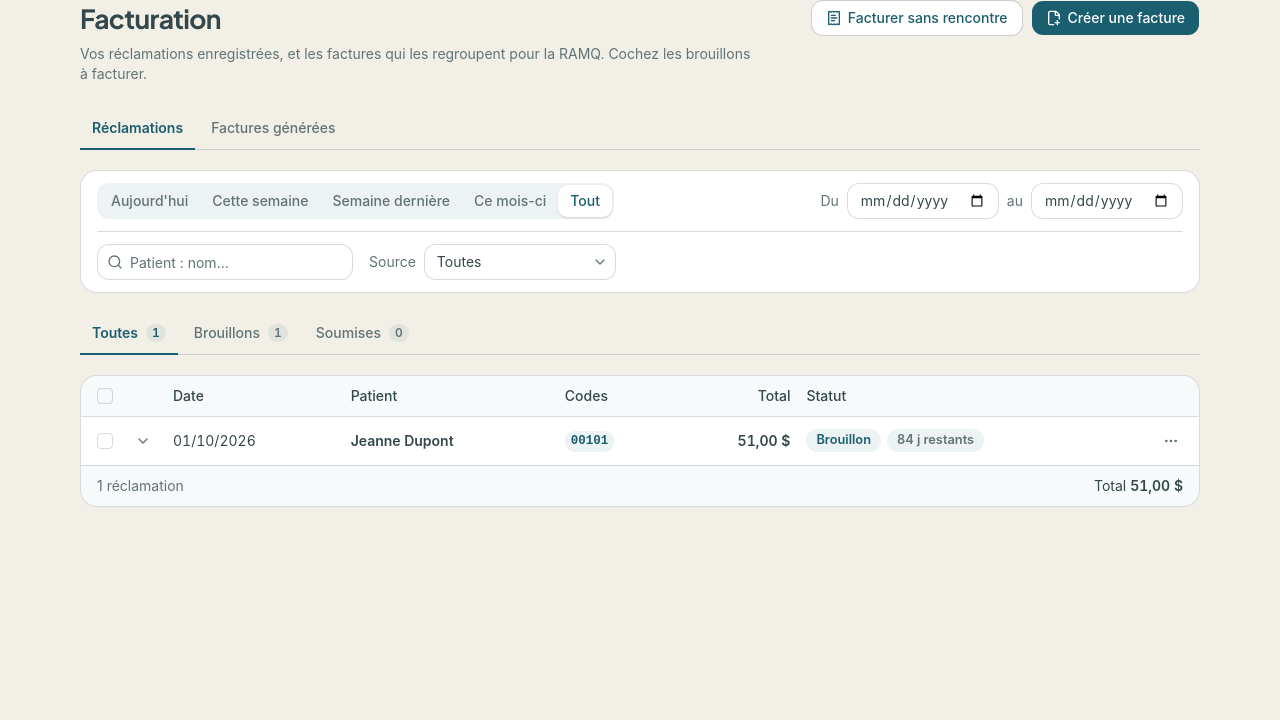
Scenario: claims tab › deleting › shows the server's refusal and keeps the claim
What coordinates should you click on to do the following:
click the button named "Actions — réclamation de Jeanne Dupont"
I would click on:
 (1171, 440)
Its box is [1155,424,1187,456].
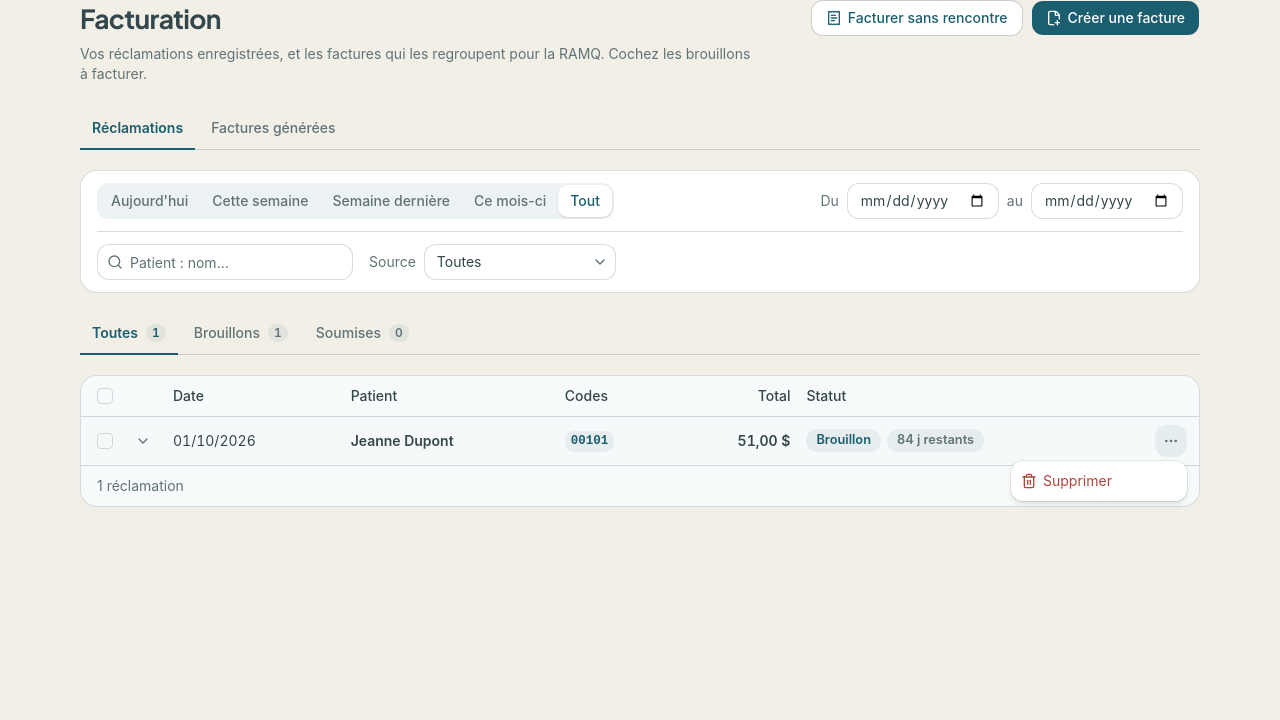
What coordinates should you click on to do the following:
click the menu item "Supprimer"
I would click on:
 (1066, 480)
Its box is [1021,472,1112,489].
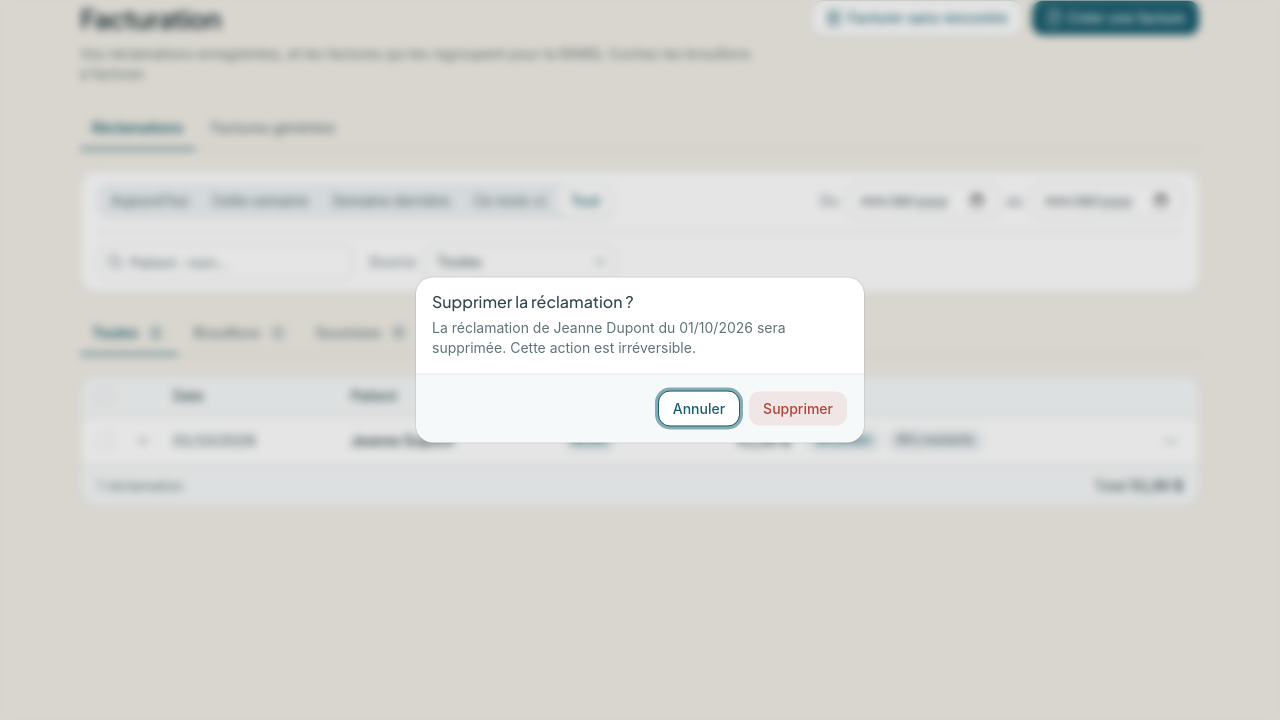
What coordinates should you click on to do the following:
click the button "Supprimer"
I would click on:
 (798, 408)
Its box is [748,390,848,426].
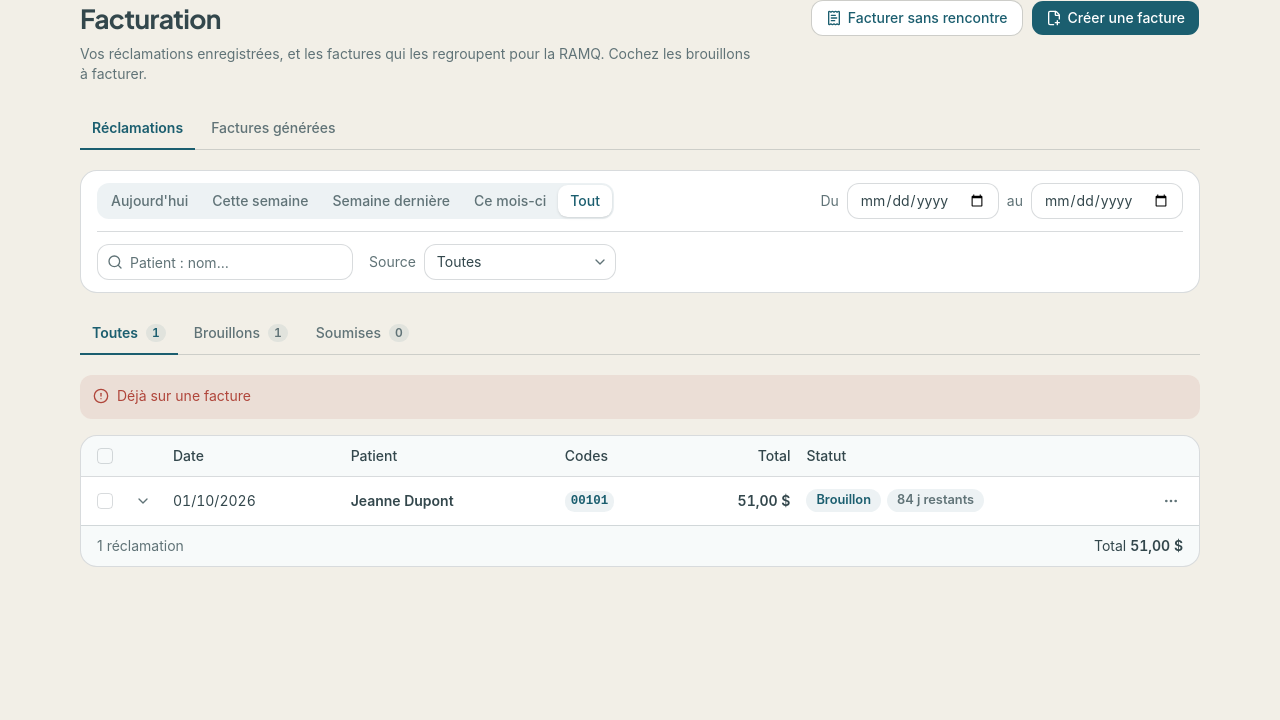
Expected: the text "Jeanne Dupont" is shown, [351,492,454,508]
Result: the text "Déjà sur une facture" is shown at [117,387,251,404]
